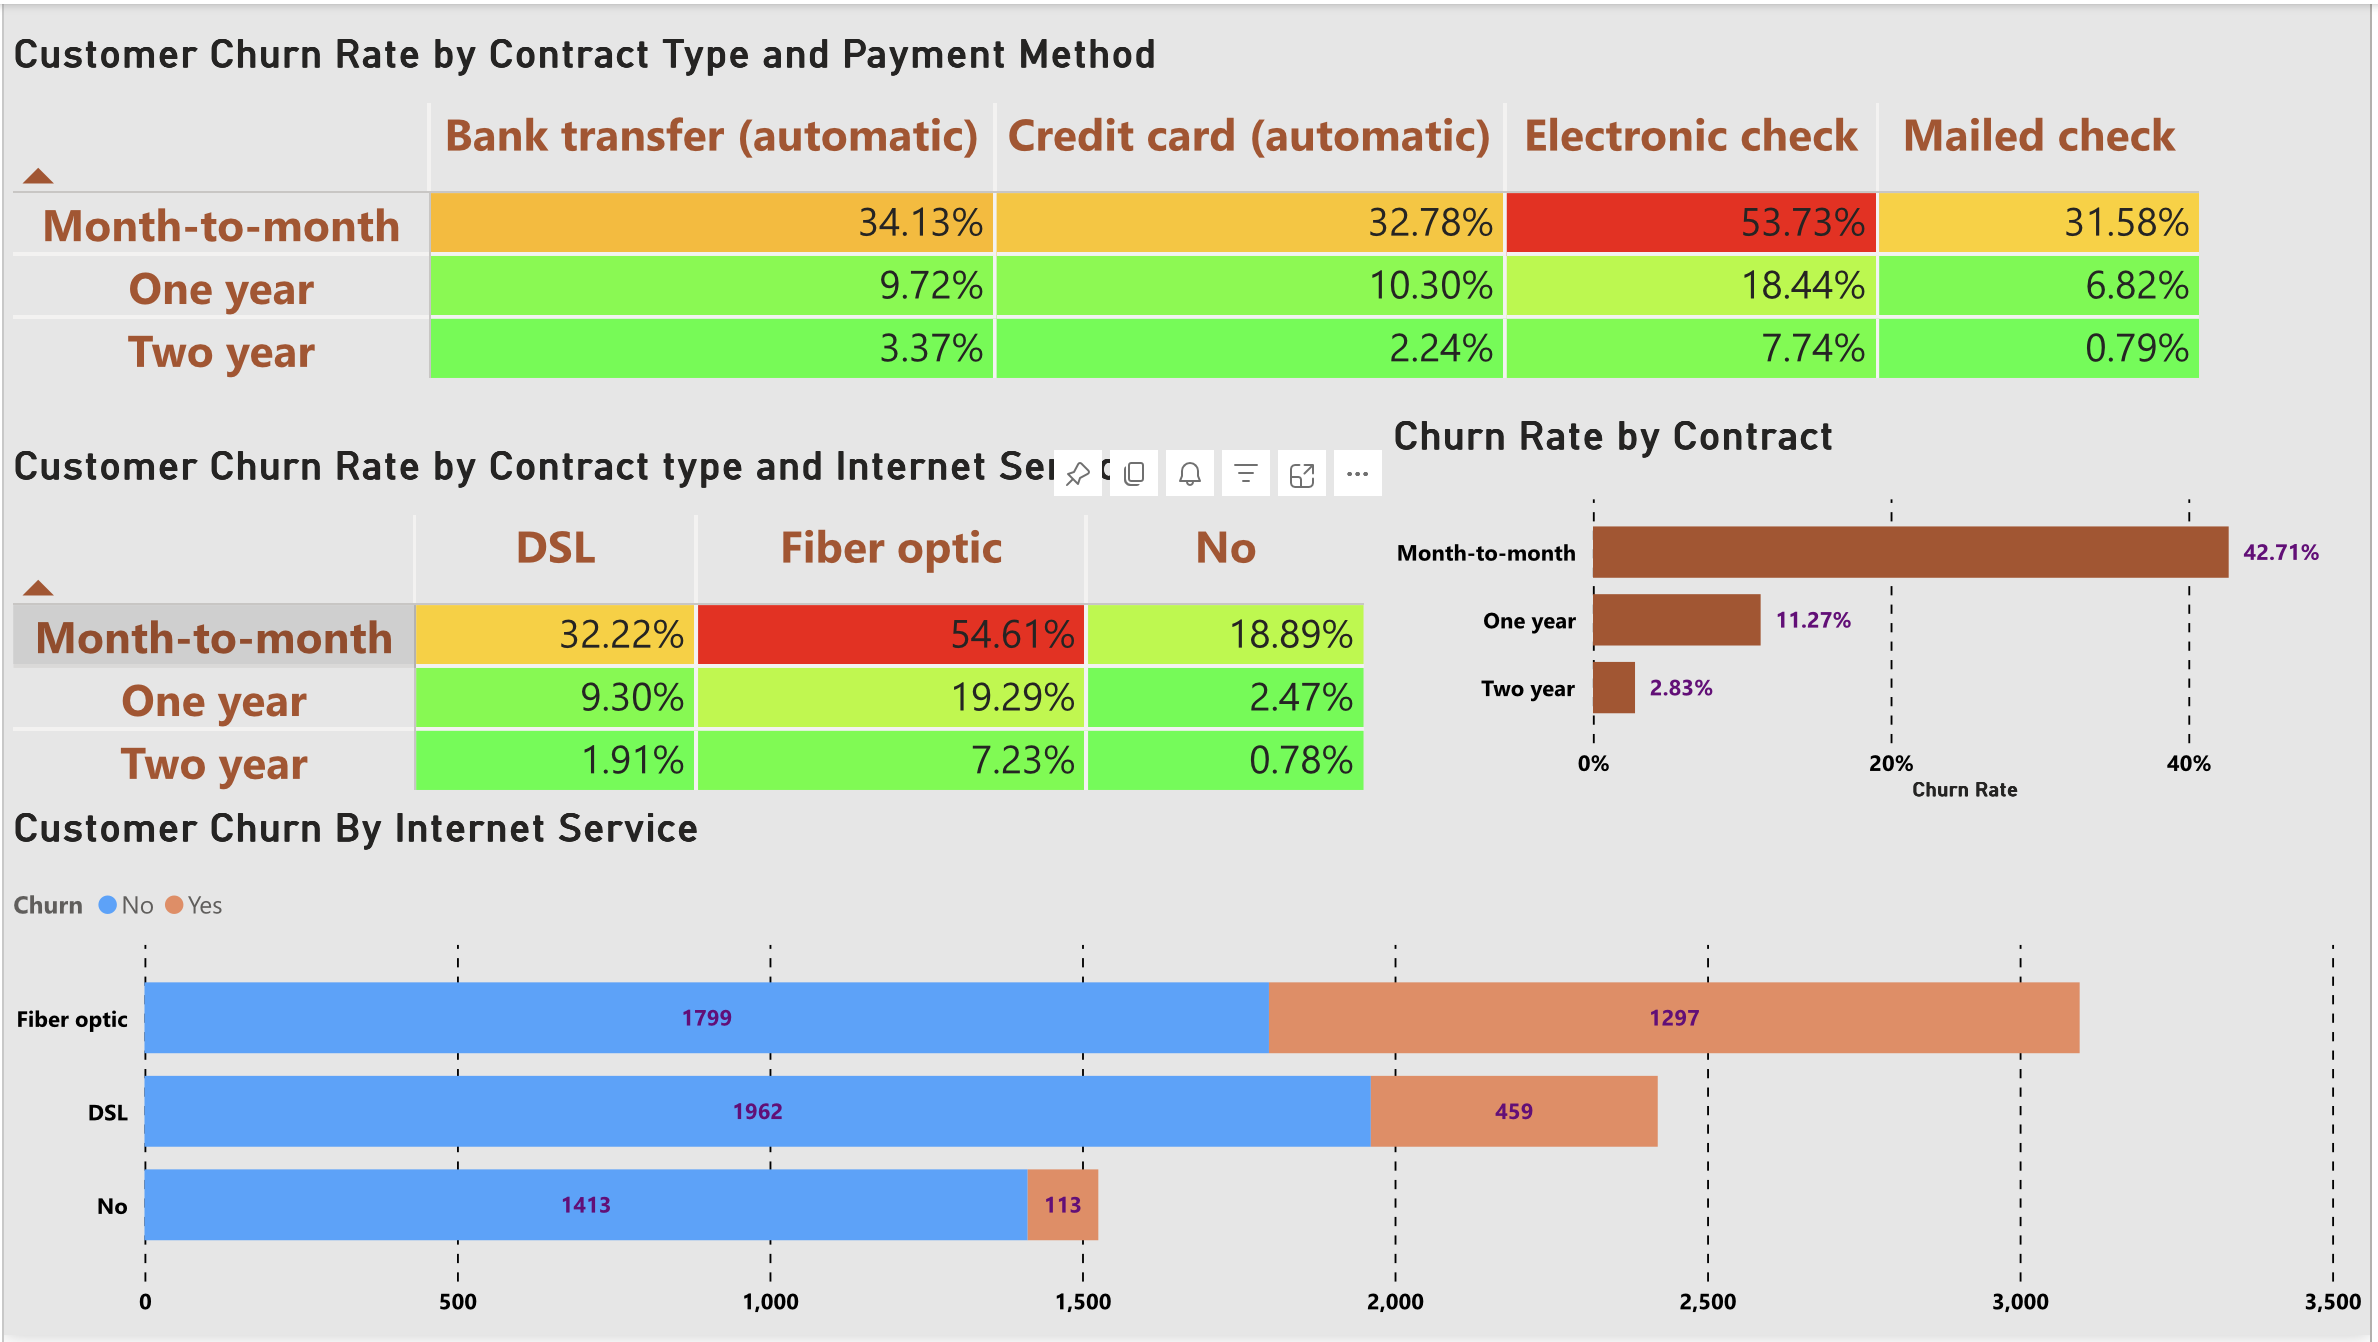

What the dashboard file says about the page in this screenshot:
{"tool":"powerbi","page":{"name":"Churn Analysis","canvas":[1280,720],"ordinal":2},"visuals":[{"type":"pivotTable","title":"Customer Churn Rate by Contract Type and Payment Method","fields":{"Columns":["Telco_Customer_Churn_Dataset  (2).PaymentMethod"],"Rows":["Telco_Customer_Churn_Dataset  (2).Contract"],"Values":["Telco_Customer_Churn_Dataset  (2).Churn Rate"]},"box":[0,17.4,1201.6,206.8],"z":0},{"type":"barChart","title":"Customer Churn By Internet Service","fields":{"Category":["Telco_Customer_Churn_Dataset  (2).InternetService"],"Series":["Telco_Customer_Churn_Dataset  (2).Churn"],"Y":["CountNonNull(Telco_Customer_Churn_Dataset  (2).customerID)"]},"box":[0,435.8,1280.5,284.2],"z":1000},{"type":"pivotTable","title":"Customer Churn Rate by Contract type and Internet Service","fields":{"Columns":["Telco_Customer_Churn_Dataset  (2).InternetService"],"Rows":["Telco_Customer_Churn_Dataset  (2).Contract"],"Values":["Telco_Customer_Churn_Dataset  (2).Churn Rate"]},"box":[0,240,746.9,195.8],"z":2000},{"type":"clusteredBarChart","fields":{"Category":["Telco_Customer_Churn_Dataset  (2).Contract"],"Y":["Telco_Customer_Churn_Dataset  (2).Churn Rate"]},"box":[746.9,224.2,533.7,211.6],"z":3000}]}

Visuals, with their boxes in screenshot pixels (x1, y1, x2, y2), scaled from the page's 1280x720 canvas onto the 2378x1342 screenshot:
"Customer Churn Rate by Contract Type and Payment Method" pivotTable: (0,32,2232,418)
"Customer Churn By Internet Service" barChart: (0,812,2377,1341)
"Customer Churn Rate by Contract type and Internet Service" pivotTable: (0,447,1388,812)
clusteredBarChart - Telco_Customer_Churn_Dataset  (2).Contract x Telco_Customer_Churn_Dataset  (2).Churn Rate: (1388,418,2377,812)
